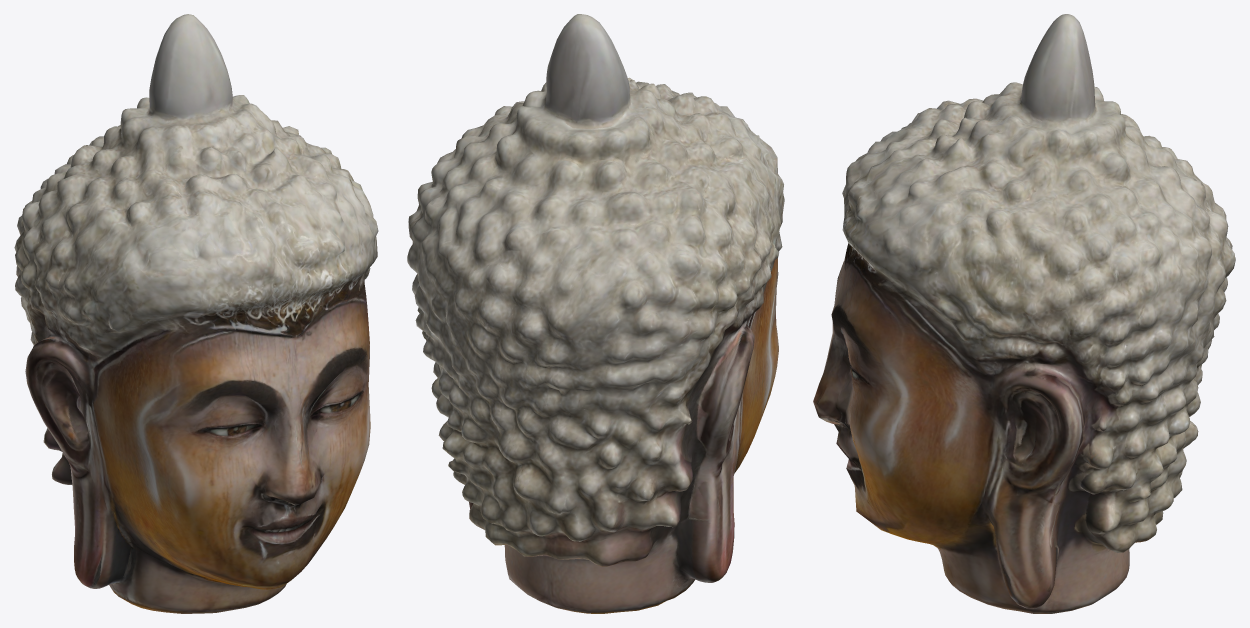
File: Buddha_Sculpture.glb
The picture shows the model from 3 angles, left to right: view 1: azimuth 30°, elevation 25°; view 2: azimuth 150°, elevation 25°; view 3: azimuth 270°, elevation 25°; orthographic projection. The views are drawn at different scales.
Size of the model in its own units: 1.18 by 1.98 by 1.35.
Materials: 1 (1 with a texture image).
